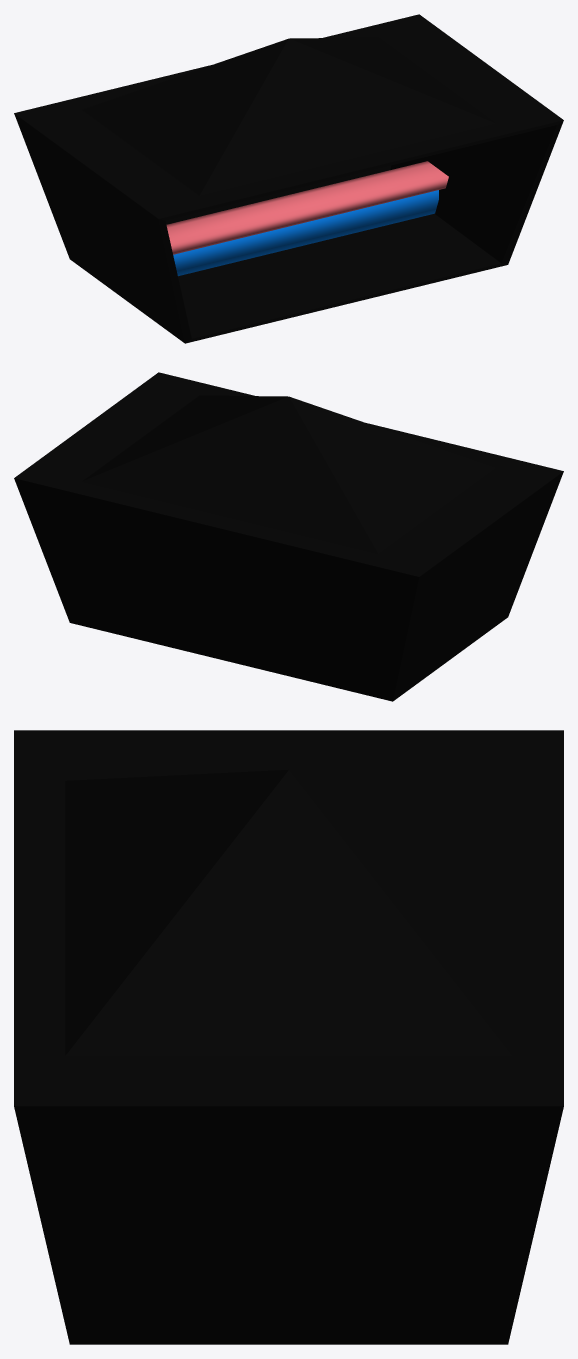
Rendered from crypto-foodie-building-new.gltf.
3 renders of one model, top to bottom at view 1: azimuth 30°, elevation 25°; view 2: azimuth 150°, elevation 25°; view 3: azimuth 270°, elevation 25°, orthographic. The views are drawn at different scales.
Visible parts, largest first — view 1: Cube; view 2: Cube; view 3: Cube.
Part boxes in pixels (box(x1,y1,x2,y2)): Cube: box(14, 14, 563, 343); Cube: box(14, 372, 563, 701); Cube: box(14, 730, 563, 1344).
Size of the model in its own units: 26.78 by 14.11 by 16.55.
